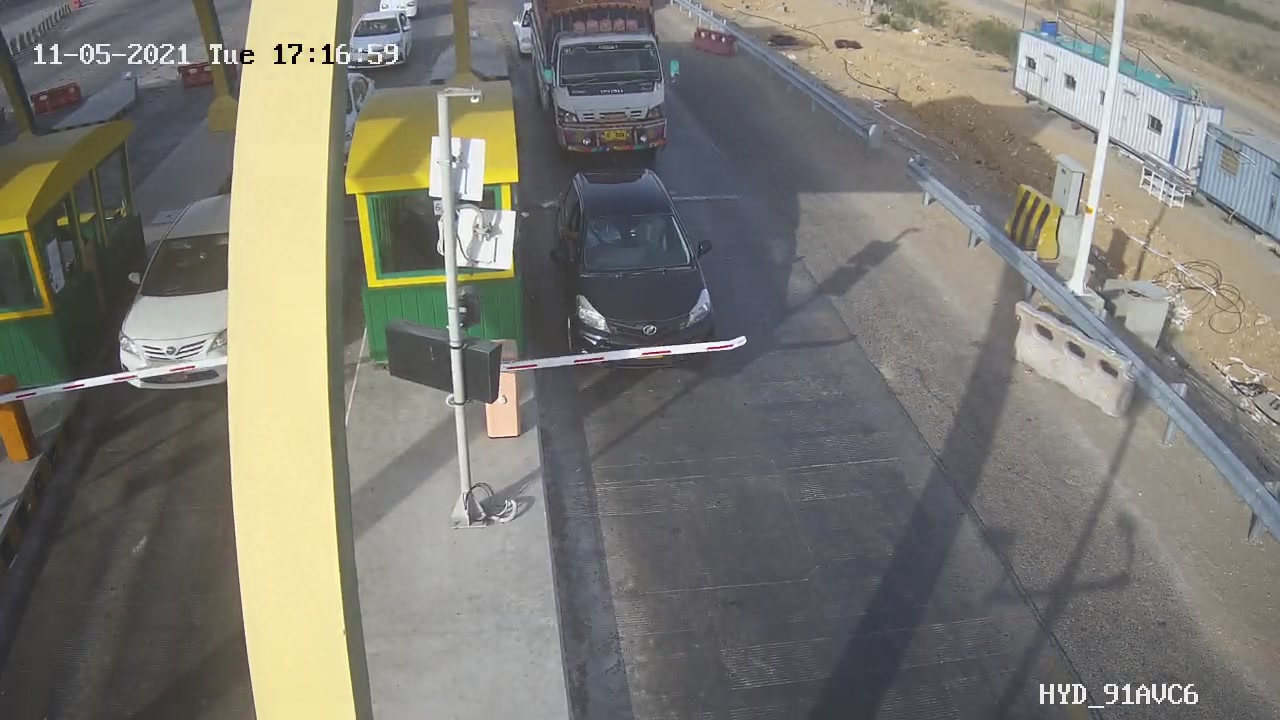F1: (530, 152, 735, 387)
